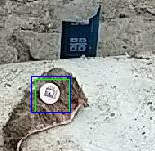text: (35, 79, 69, 112)
